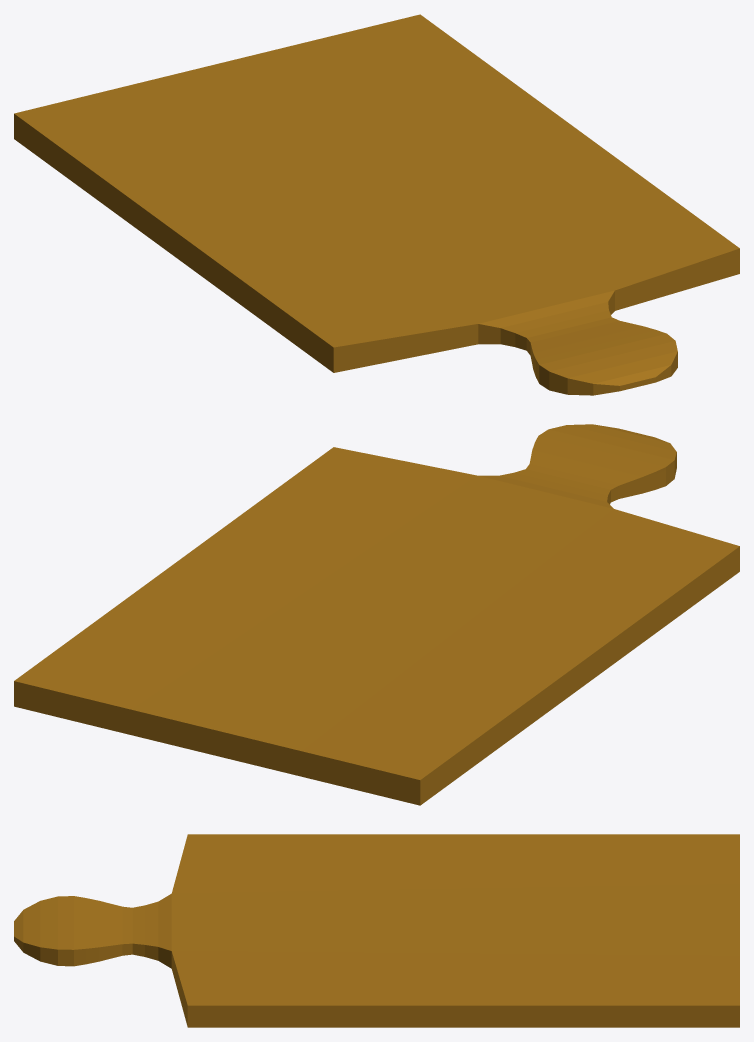
Rendered from tablaPicar.obj.
3 views of the same model, one above another, from view 1: azimuth 30°, elevation 25°; view 2: azimuth 150°, elevation 25°; view 3: azimuth 270°, elevation 25° (orthographic). The views are drawn at different scales.
Parts seen in each view (by area): view 1: Cube; view 2: Cube; view 3: Cube.
Boxes of the visible parts, box(x1,y1,x2,y2) form: Cube: box(14, 14, 739, 395); Cube: box(14, 424, 739, 805); Cube: box(14, 834, 739, 1027).
Size of the model in its own units: 2 by 0.12 by 3.58.
